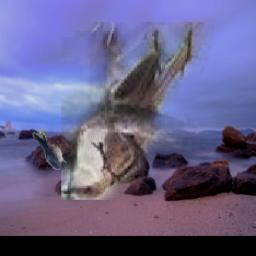Cuckoo: (62, 23, 214, 201)
Swallow: (32, 130, 67, 171)
